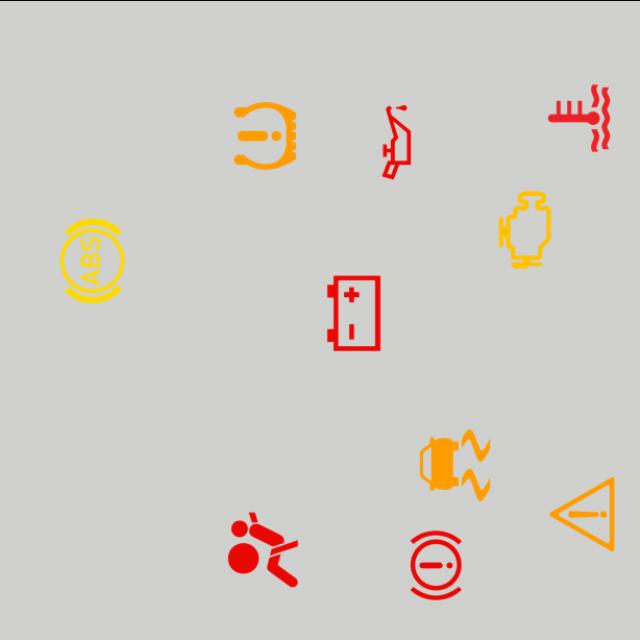Anti Lock Braking System: (45, 214, 138, 306)
Braking System Issue: (390, 518, 482, 611)
Charging System Issue: (308, 266, 400, 358)
Check Engine: (478, 182, 572, 276)
Electronic Stability Problem -ESP-: (408, 418, 502, 511)
Engine Overheating Warning Light: (532, 71, 626, 164)
Low Engine Oil Warning Light: (350, 94, 443, 188)
Low Tire Pressure Warning Light: (219, 88, 312, 182)
Master warning light: (536, 467, 628, 560)
SRS-Airbag: (216, 502, 310, 596)
